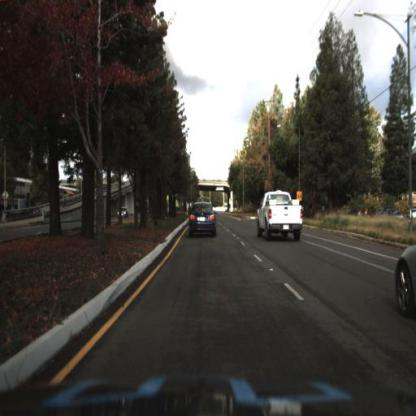car: (255, 183, 308, 243), (390, 222, 416, 326), (188, 197, 218, 247), (114, 202, 133, 222)
